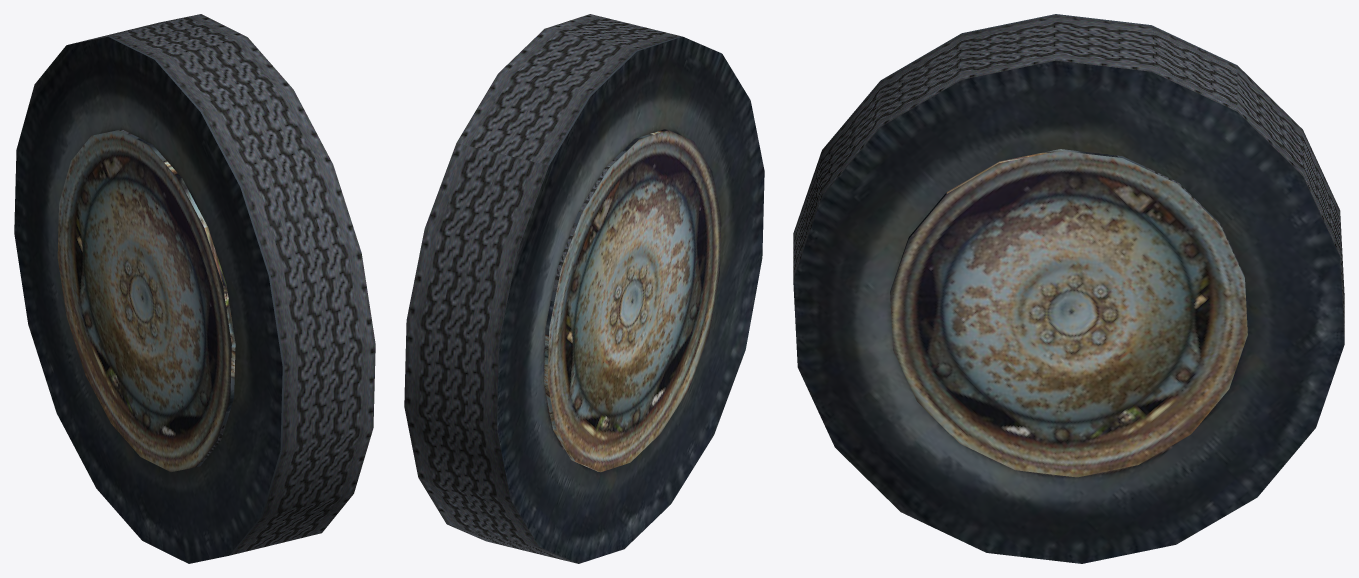
Rendered from old_tire.fbx.
3 renders of one model, left to right at view 1: azimuth 30°, elevation 25°; view 2: azimuth 150°, elevation 25°; view 3: azimuth 270°, elevation 25°, orthographic. The views are drawn at different scales.
Visible parts, largest first — view 1: Cylinder01; view 2: Cylinder01; view 3: Cylinder01.
Part boxes in pixels (box(x1,y1,x2,y2)): Cylinder01: box(14, 14, 375, 563); Cylinder01: box(404, 14, 764, 563); Cylinder01: box(793, 14, 1344, 563).
Bounding box in the file's own units: 6 × 27.56 × 27.37.
